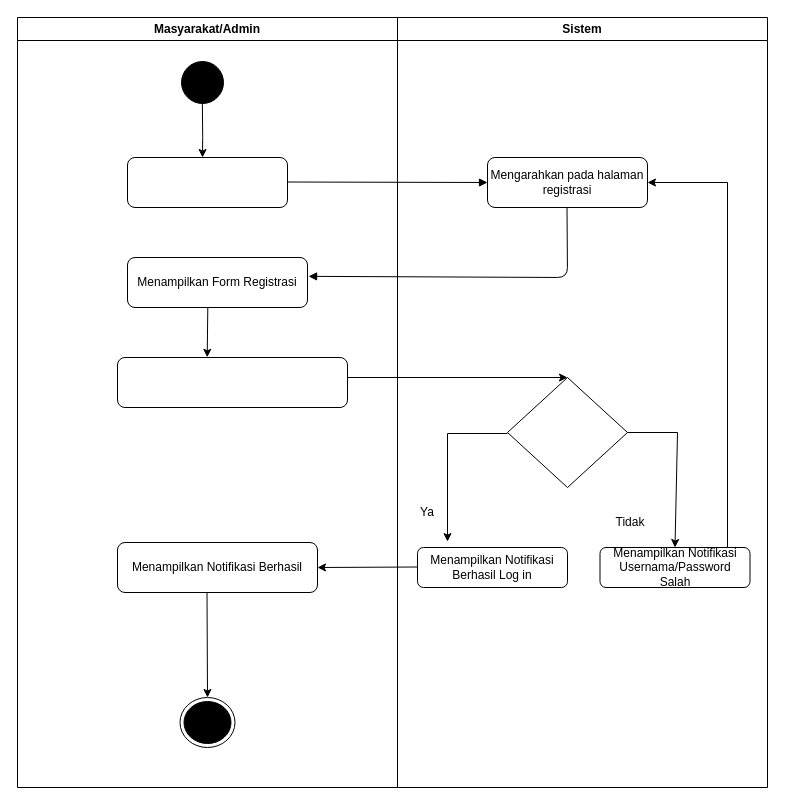
This 785x805 diagram has some shape labels left out. The centre of each missing label's shape, as x and y in pixels:
Mengisi Data: Nama, Email, Nomor Telepon, Pas Photo, Password: point (232, 382)
Pengguna Memilih Menu Login lalu pilih "Belum Punya Akun": point (207, 182)
Validasi Input Data: point (567, 432)
